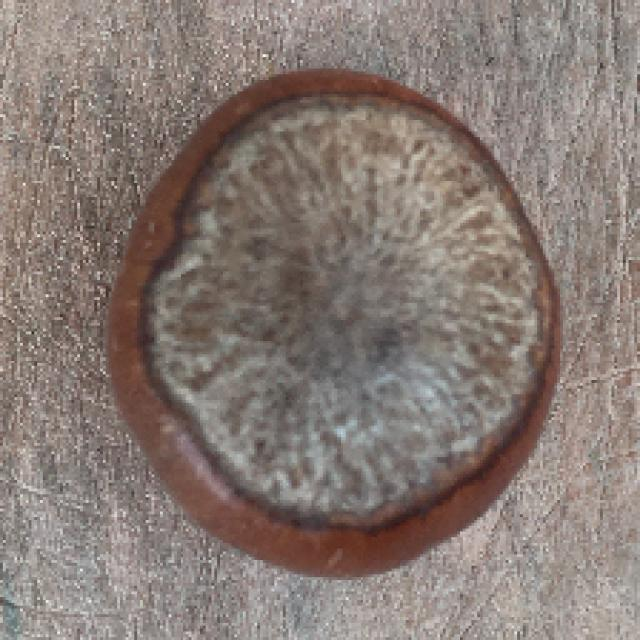qualityHazelnut: (94, 53, 568, 578)
